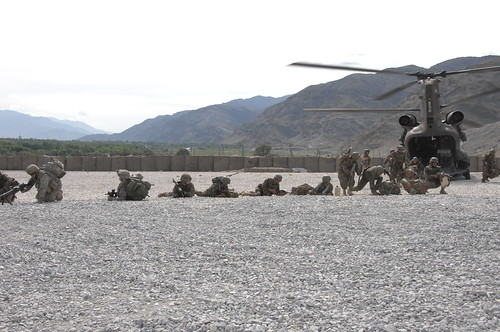helicopter: (313, 54, 500, 181)
sky: (9, 1, 346, 102)
soldier: (17, 155, 60, 207), (101, 170, 148, 204), (353, 164, 389, 199), (422, 156, 449, 200), (398, 153, 425, 197), (288, 175, 336, 198), (242, 176, 290, 199), (192, 176, 240, 199), (158, 175, 199, 198)
